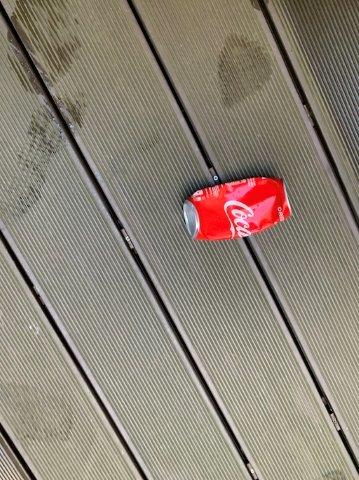kaleng: (185, 178, 291, 240)
